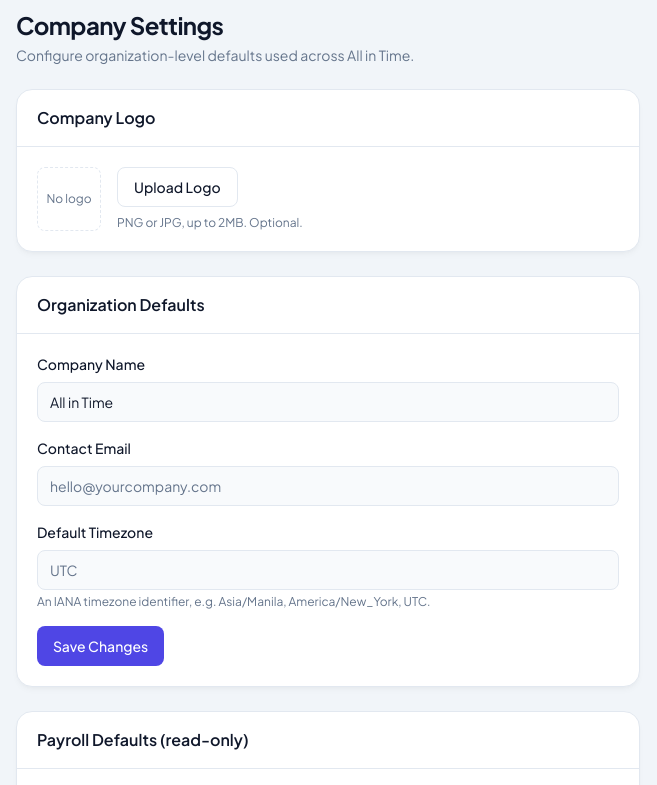
Test: CompanySettingsPage › shows the server validation error when saving an invalid timezone
Expected: the field showing "All in Time" is shown, x1=37 y1=382 x2=619 y2=422
Click the button "Save Changes". click: click(101, 646)
box: x1=37 y1=626 x2=164 y2=666
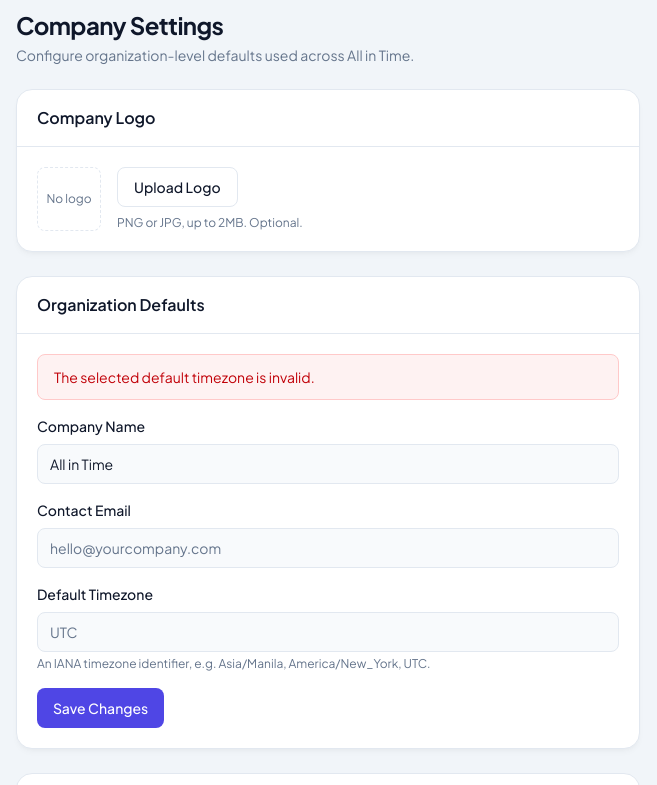
Result: the text "The selected default timezone is invalid." is shown at x1=37 y1=354 x2=619 y2=400
